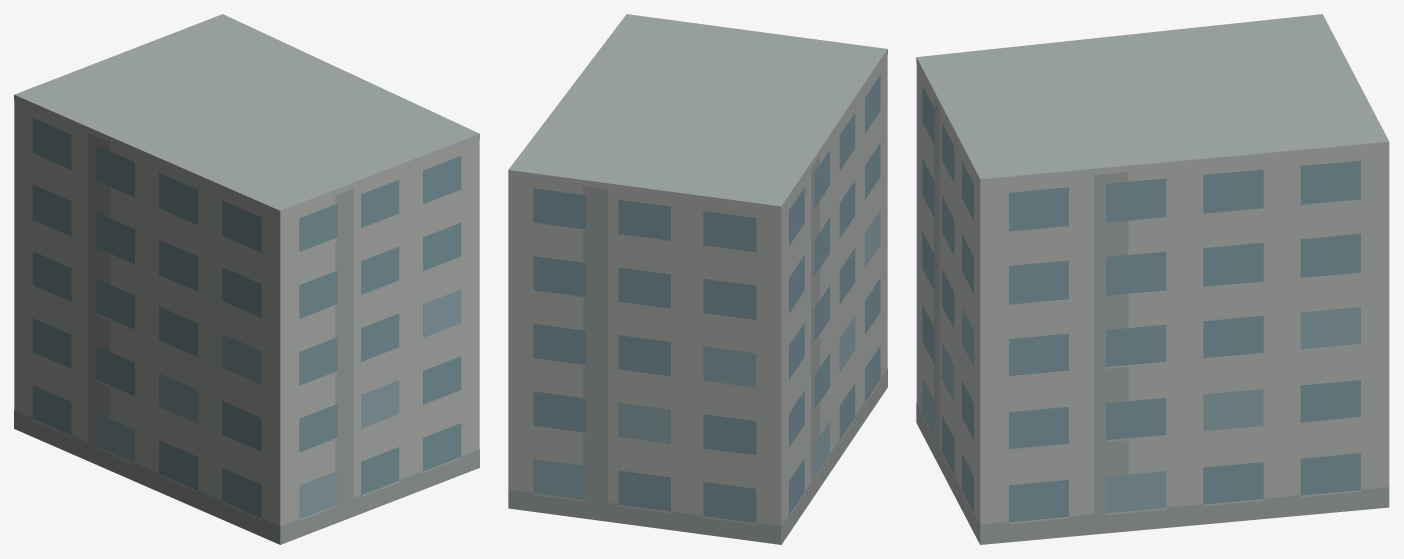
File: survey-upis-32958222.glb
3 renders of one model, left to right at view 1: azimuth 30°, elevation 25°; view 2: azimuth 150°, elevation 25°; view 3: azimuth 270°, elevation 25°, orthographic. The views are drawn at different scales.
Parts seen in each view (by area): view 1: survey-upis-32958222.tmp; view 2: survey-upis-32958222.tmp; view 3: survey-upis-32958222.tmp.
Part boxes in pixels (x1,y1,x2,y2): survey-upis-32958222.tmp: (14,14,479,544); survey-upis-32958222.tmp: (508,14,887,544); survey-upis-32958222.tmp: (916,14,1389,544).
Size of the model in its own units: 13.38 by 13.8 by 16.19.
